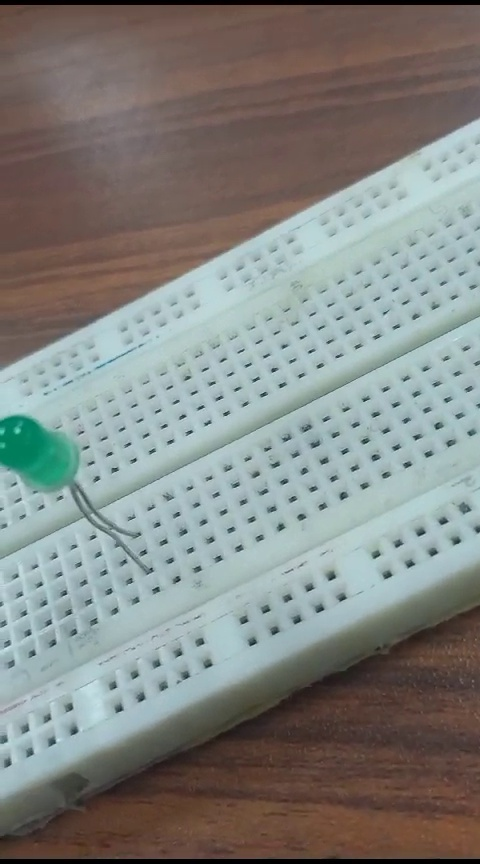LED: (1, 405, 144, 571)
